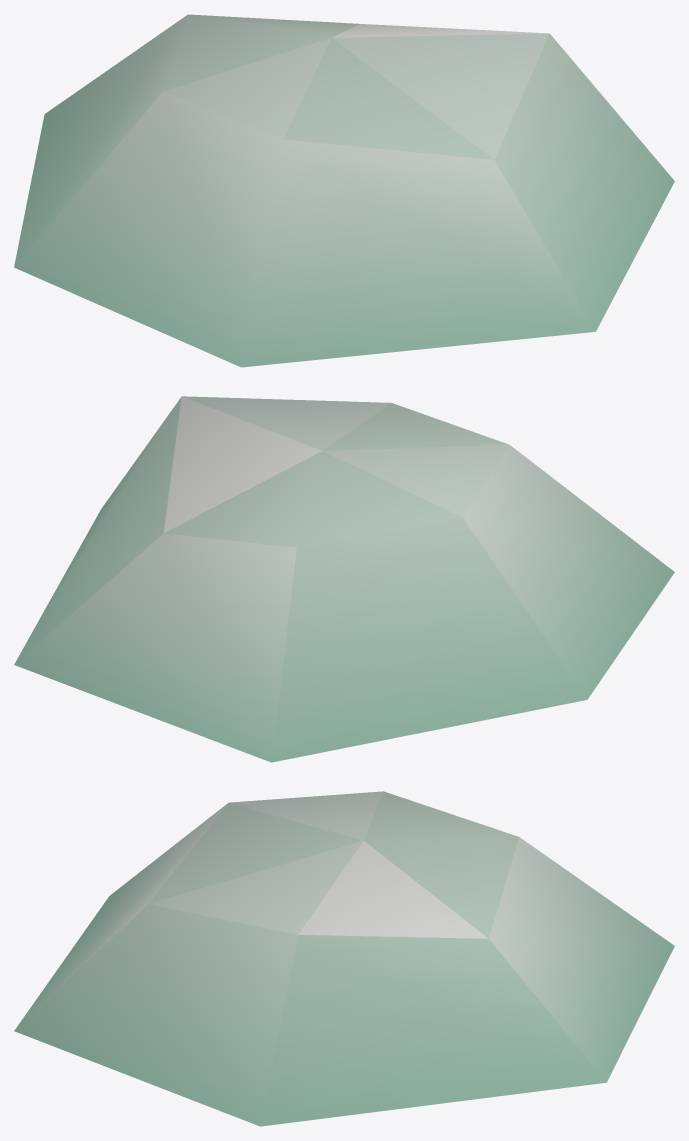
The model's file is snowdrop_patch_a_far.glb.
3 renders of one model, top to bottom at view 1: azimuth 30°, elevation 25°; view 2: azimuth 150°, elevation 25°; view 3: azimuth 270°, elevation 25°, orthographic. The views are drawn at different scales.
Parts seen in each view (by area): view 1: soft; view 2: soft; view 3: soft.
Boxes of the visible parts, x1,y1,x2,y2 form: soft: [14, 14, 674, 367]; soft: [14, 396, 674, 762]; soft: [14, 791, 674, 1126].
Bounding box in the file's own units: 0.5755 × 0.162 × 0.6158.
